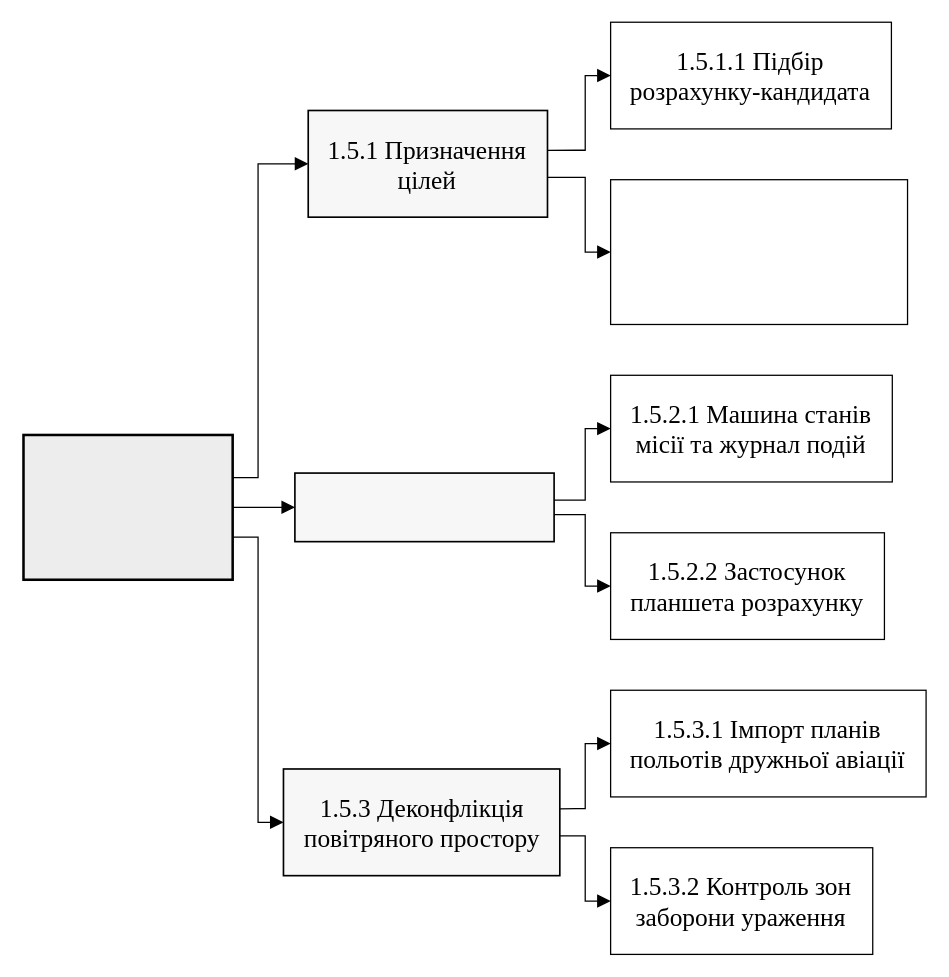
Image size: 949x977. Some labels were removed from this diagram. The centre of each missing label's shape, as x and y in pixels:
"1.5 Підсистема координації перехоплення" belongs at (127,506).
"1.5.1.2 Санкціонування пуску за правилом двох осіб" belongs at (758,251).
"1.5.2 Супровід місій" belongs at (423,507).
